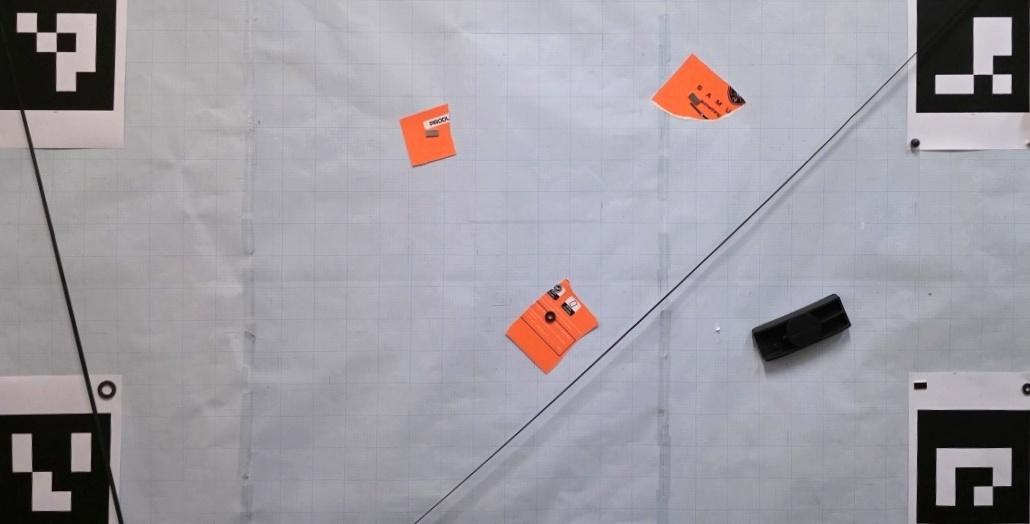obstacle: (505, 279, 599, 375), (751, 293, 852, 363), (651, 52, 746, 122), (399, 104, 456, 168)
